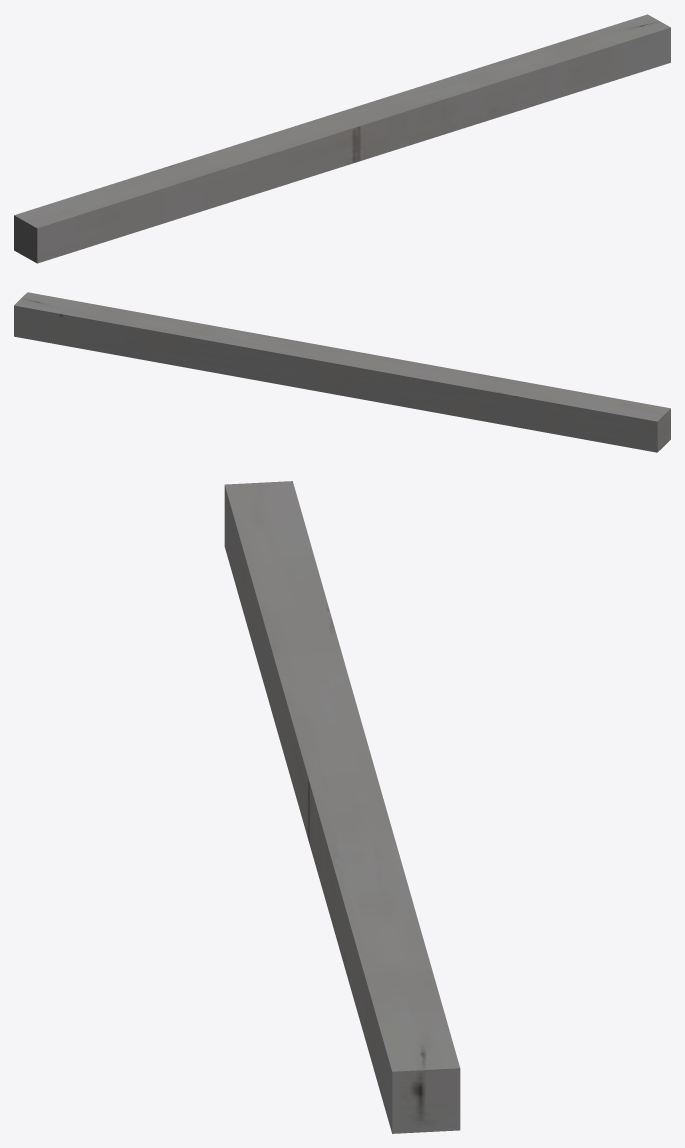
The model's file is frame__rail_1.glb.
3 views of the same model, one above another, from view 1: azimuth 30°, elevation 25°; view 2: azimuth 150°, elevation 25°; view 3: azimuth 270°, elevation 25° (orthographic). The views are drawn at different scales.
Parts seen in each view (by area): view 1: world; view 2: world; view 3: world.
Part boxes in pixels (x1,y1,x2,y2): world: (14,14,670,263); world: (14,292,670,452); world: (224,481,460,1133).
Bounding box in the file's own units: 1.02 × 0.05 × 0.1717.
Materials: 1 (1 with a texture image).
